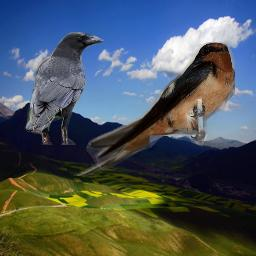Crow: (24, 32, 104, 145)
Swallow: (71, 42, 235, 176)
